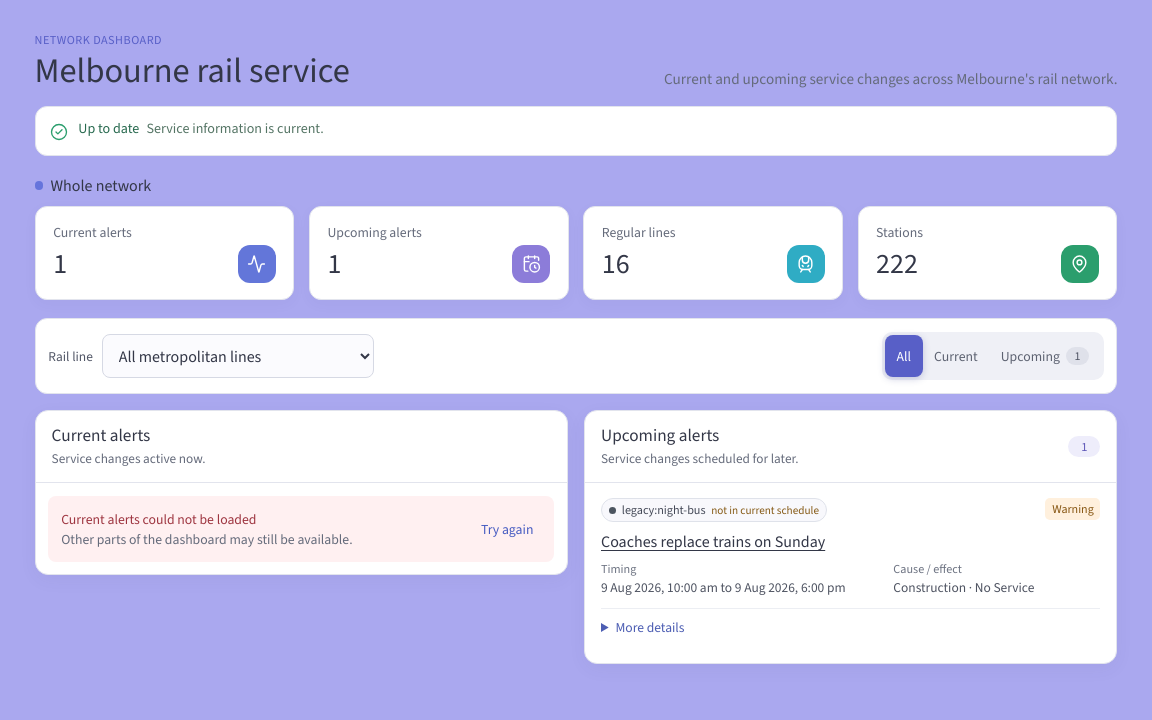
Dashboard › keeps successful sections visible when current alerts fail and retries that section
Check: the heading "Coaches replace trains on Sunday" is shown, box [601,531,825,552]
Check: the message that starts with "Current alerts could not be loaded" is shown, box [61,510,256,528]
Click the button "Try again" at [507, 529], box [473,509,541,549]
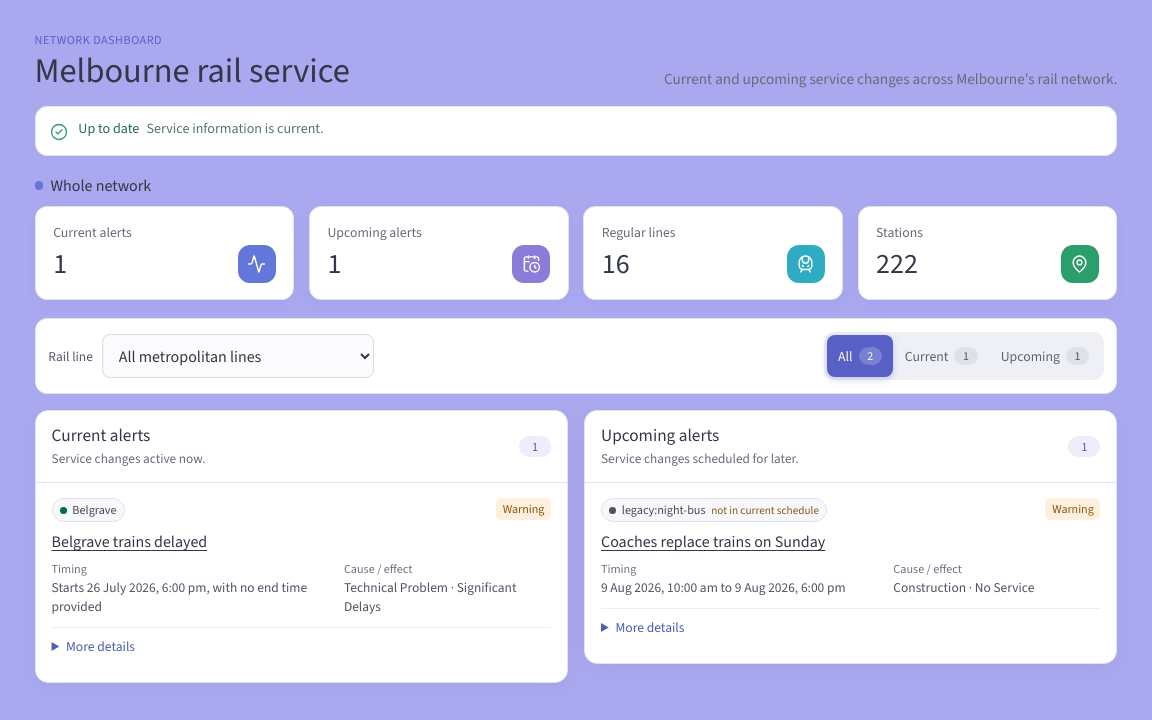
Check: the heading "Belgrave trains delayed" is shown, box [52,531,207,552]
